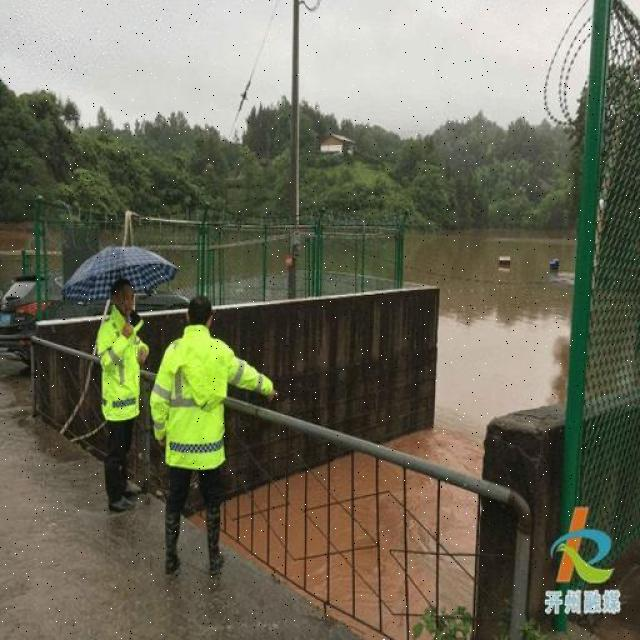rescuer: (156, 296, 238, 572), (96, 274, 142, 508)
